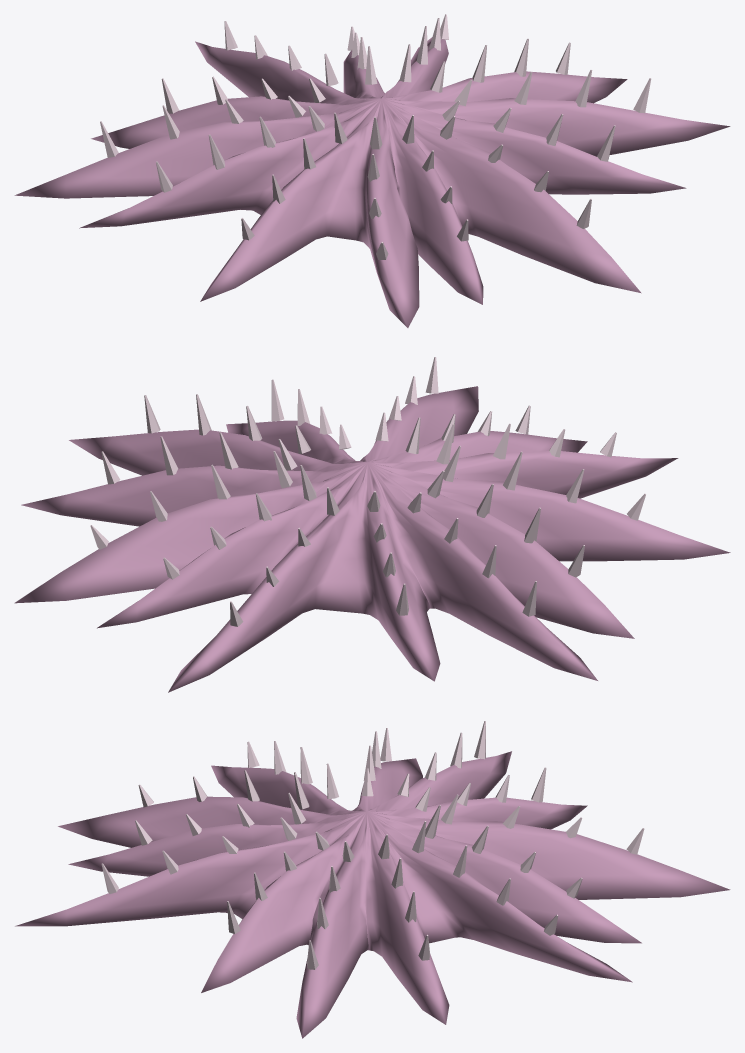
Rendered from crown-of-thorns.glb.
The picture shows the model from 3 angles, top to bottom: view 1: azimuth 30°, elevation 25°; view 2: azimuth 150°, elevation 25°; view 3: azimuth 270°, elevation 25°; orthographic projection. The views are drawn at different scales.
Visible parts, largest first — view 1: Crown of thorns — 13 organic arms; view 2: Crown of thorns — 13 organic arms; view 3: Crown of thorns — 13 organic arms.
Boxes of the visible parts, x1,y1,x2,y2 form: Crown of thorns — 13 organic arms: (14,37,730,327); Crown of thorns — 13 organic arms: (14,386,730,692); Crown of thorns — 13 organic arms: (15,751,730,1038).
Bounding box in the file's own units: 1.48 × 0.2477 × 1.56.
